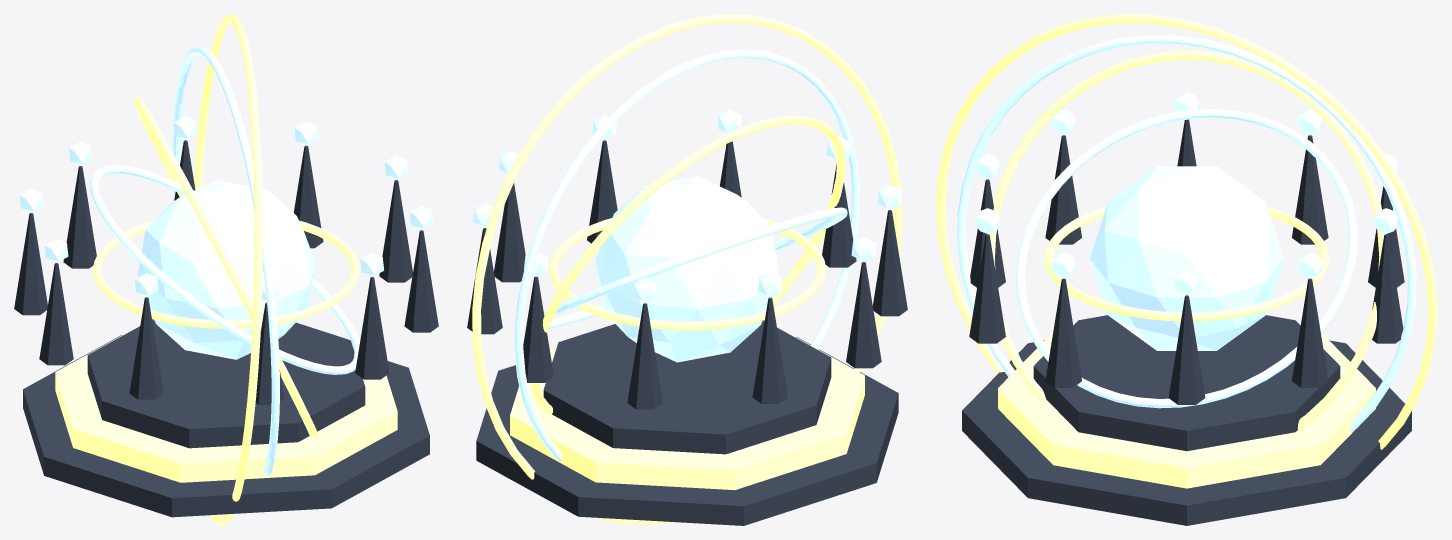
The model's file is gpu-blender-v24.glb.
3 renders of one model, left to right at view 1: azimuth 30°, elevation 25°; view 2: azimuth 150°, elevation 25°; view 3: azimuth 270°, elevation 25°, orthographic. The views are drawn at different scales.
Visible parts, largest first — view 1: Cylinder.002, Cylinder, SovereignCore_robots-txt-auditor, Cylinder.001, Torus.004, Torus.003, Torus.001, Torus, Torus.002, Cone.004, Cone.008, Cone.005 (+6 smaller); view 2: Cylinder.002, SovereignCore_robots-txt-auditor, Cylinder, Cylinder.001, Torus.004, Torus.003, Torus.002, Torus, Torus.001, Cone.005, Cone.003, Cone.006 (+7 smaller); view 3: SovereignCore_robots-txt-auditor, Cylinder.002, Cylinder, Cylinder.001, Torus.004, Torus.003, Torus.001, Torus.002, Torus, Cone, Cone.008, Cone.001 (+7 smaller).
Part boxes in pixels (<box>): Cylinder.002: <box>87,319,365,448</box>; Cylinder: <box>23,335,429,517</box>; SovereignCore_robots-txt-auditor: <box>137,180,315,359</box>; Cylinder.001: <box>55,326,397,482</box>; Torus.004: <box>194,14,263,525</box>; Torus.003: <box>173,46,279,475</box>; Torus.001: <box>90,165,360,374</box>; Torus: <box>93,220,359,328</box>; Torus.002: <box>133,97,318,437</box>; Cone.004: <box>14,213,47,315</box>; Cone.008: <box>355,277,389,379</box>; Cone.005: <box>39,263,73,365</box>; Cylinder.002: <box>543,320,831,454</box>; SovereignCore_robots-txt-auditor: <box>595,176,779,362</box>; Cylinder: <box>476,337,898,525</box>; Cylinder.001: <box>510,328,864,490</box>; Torus.004: <box>472,14,902,524</box>; Torus.003: <box>514,49,860,461</box>; Torus.002: <box>530,115,845,415</box>; Torus: <box>549,218,825,330</box>; Torus.001: <box>544,207,847,328</box>; Cone.005: <box>846,262,881,368</box>; Cone.003: <box>627,303,662,409</box>; Cone.006: <box>873,210,907,316</box>; SovereignCore_robots-txt-auditor: <box>1090,166,1283,350</box>; Cylinder.002: <box>1033,315,1340,451</box>; Cylinder: <box>962,340,1411,525</box>; Cylinder.001: <box>998,332,1375,488</box>; Torus.004: <box>936,14,1437,449</box>; Torus.003: <box>957,35,1416,432</box>; Torus.001: <box>1016,109,1357,408</box>; Torus.002: <box>988,50,1385,431</box>; Torus: <box>1044,206,1329,321</box>; Cone: <box>1168,295,1205,404</box>; Cone.008: <box>969,234,1005,343</box>; Cone.001: <box>1292,278,1328,387</box>.
Size of the model in its own units: 4.41 by 5.33 by 4.9.
